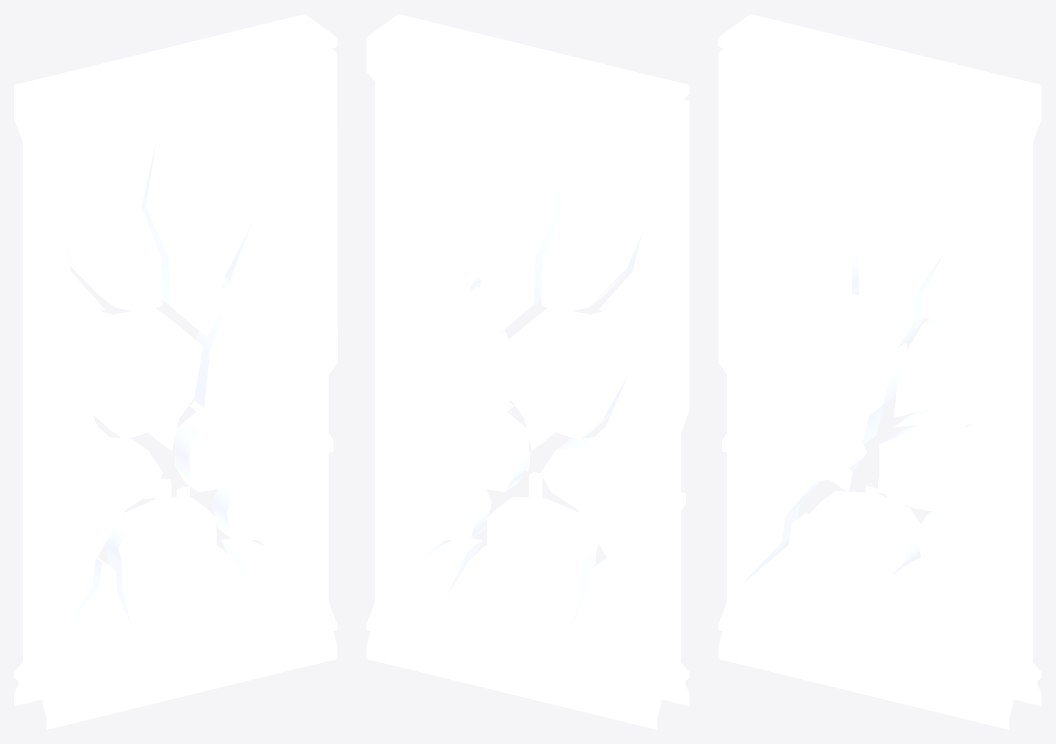
Rendered from IndustrialWall_Bomb.glb.
The picture shows the model from 3 angles, left to right: view 1: azimuth 30°, elevation 25°; view 2: azimuth 150°, elevation 25°; view 3: azimuth 330°, elevation 25°; orthographic projection.
Visible parts, largest first — view 1: IndustrialWall_Bomb; view 2: IndustrialWall_Bomb; view 3: IndustrialWall_Bomb.
Boxes of the visible parts, x1,y1,x2,y2 form: IndustrialWall_Bomb: (14,14,337,729); IndustrialWall_Bomb: (366,14,689,729); IndustrialWall_Bomb: (718,14,1041,729).
Bounding box in the file's own units: 1.03 × 2.1 × 0.2018.
